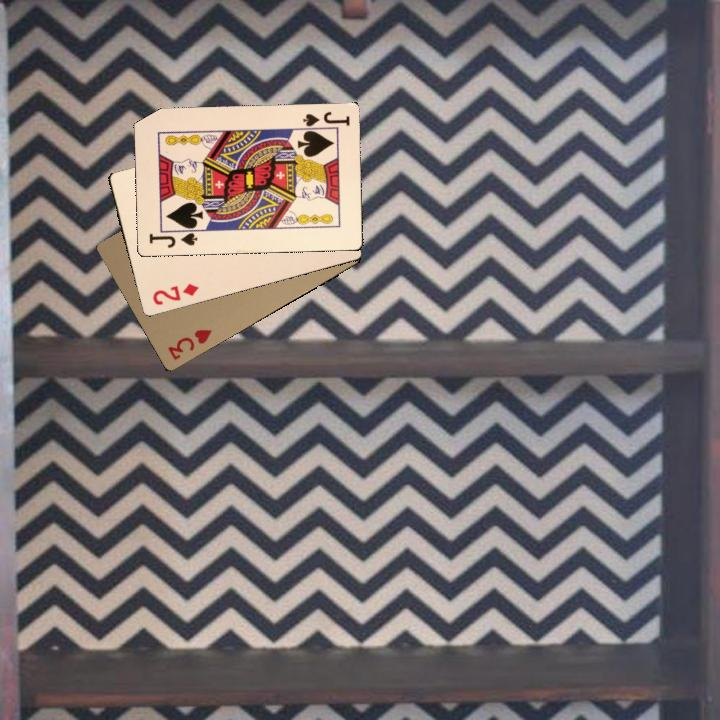2d: (149, 279, 201, 308)
3h: (164, 325, 214, 363)
Js: (297, 107, 352, 132), (145, 225, 199, 250)
